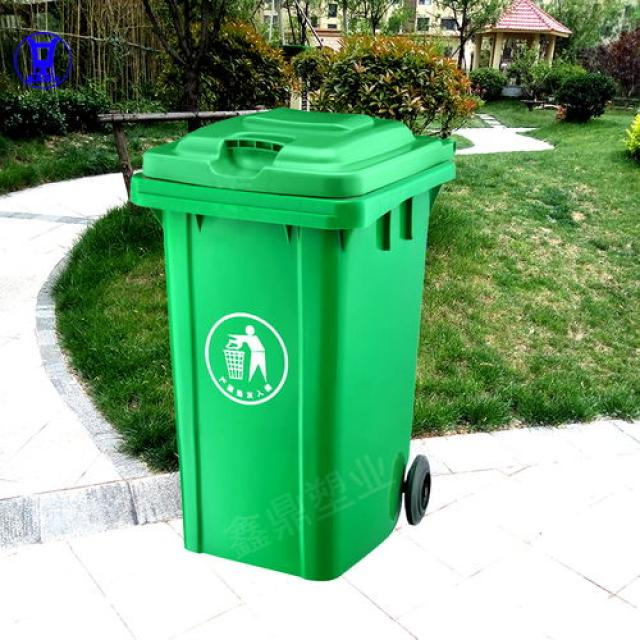garbage_bin: (130, 109, 456, 580)
